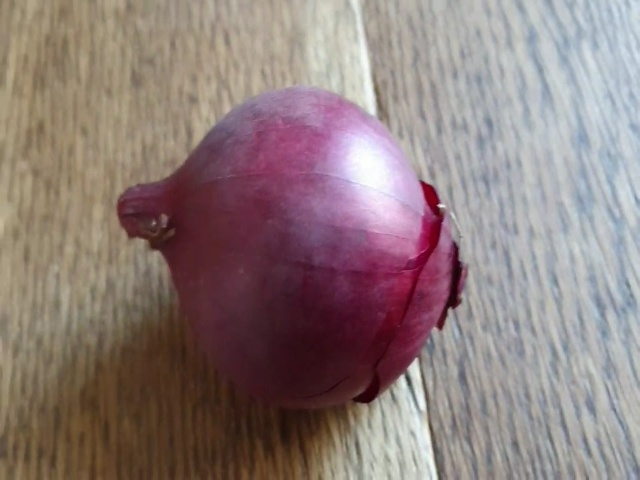red_onion: (113, 79, 472, 430)
